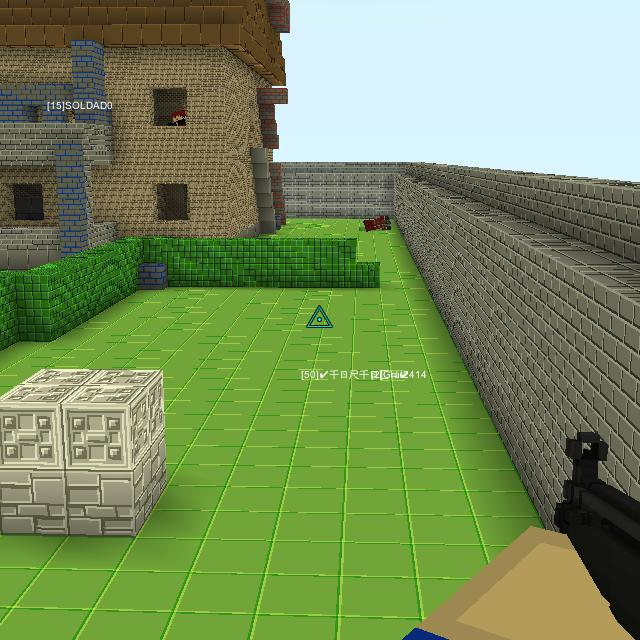enemy: (168, 109, 187, 126)
